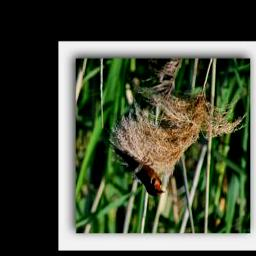Swallow: (109, 144, 168, 198)
